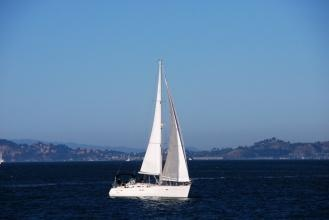fanchuan: (103, 60, 196, 199)
